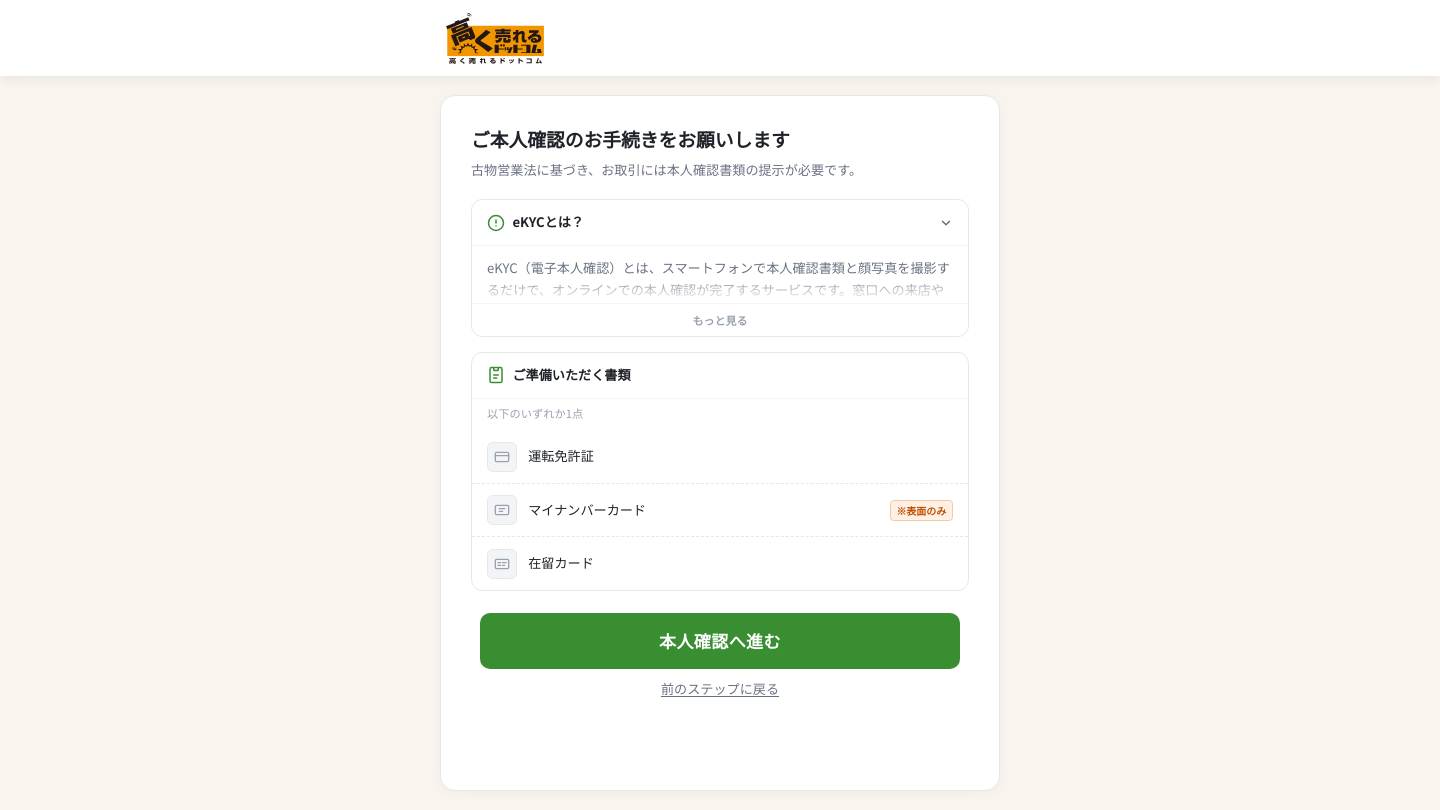
StepEkycIntro › collapses again when 閉じる is clicked
Click the button "もっと見る" at point(720, 319), box [472,303,968,336]
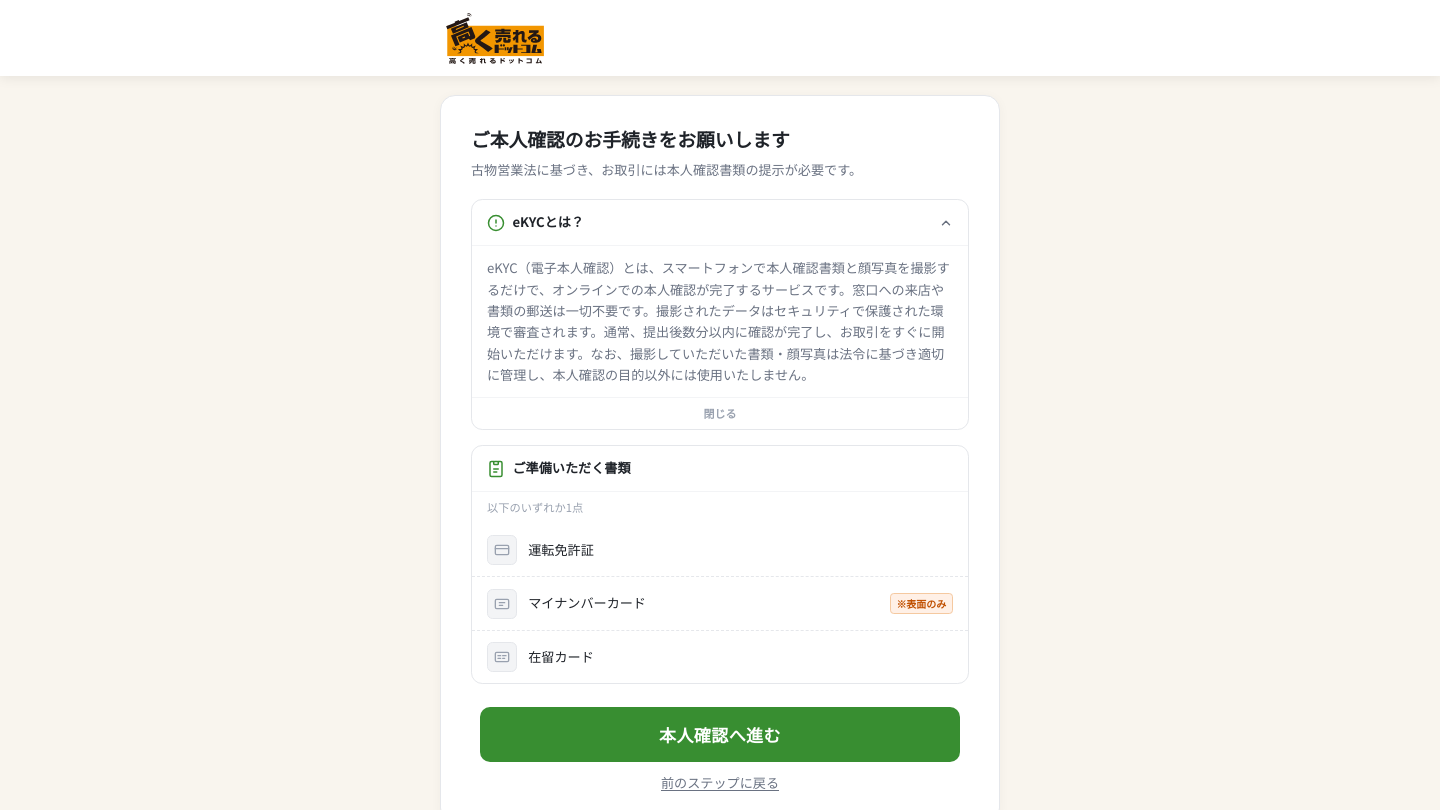
Click the button "閉じる" at point(720, 413), box [472,397,968,429]
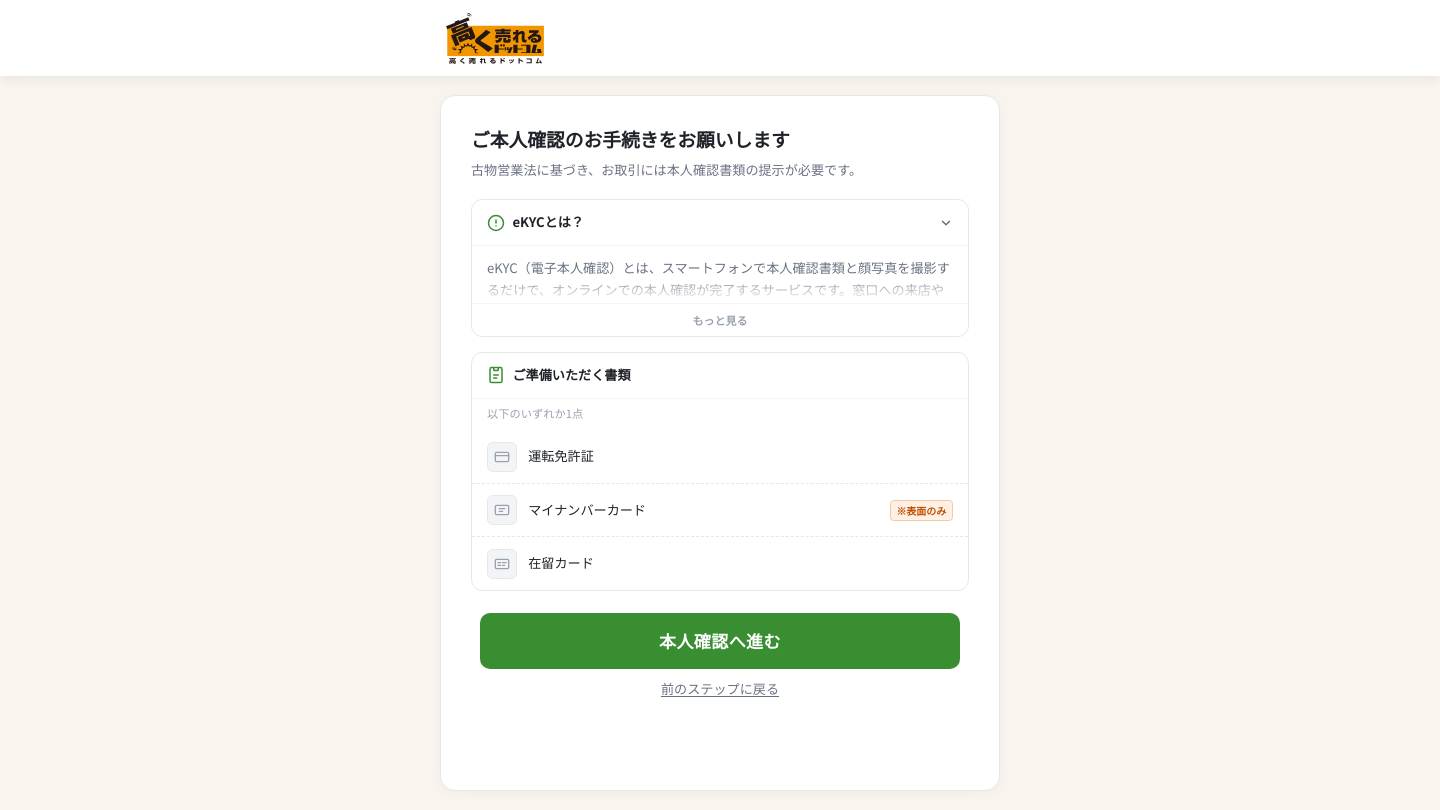
Result: the button "もっと見る" is shown at [472,303,968,336]
